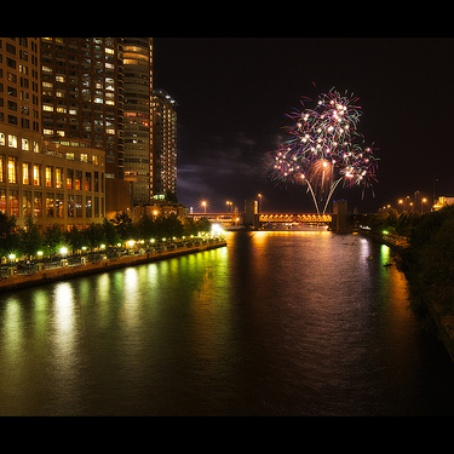building: (1, 40, 154, 210), (1, 136, 107, 220), (155, 92, 179, 206)
fireworks: (243, 76, 394, 202)
river: (1, 236, 454, 416)
